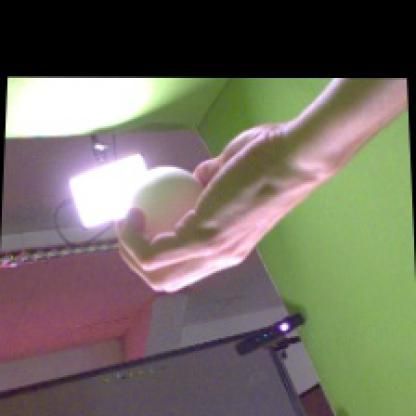Hand: (115, 126, 319, 294)
